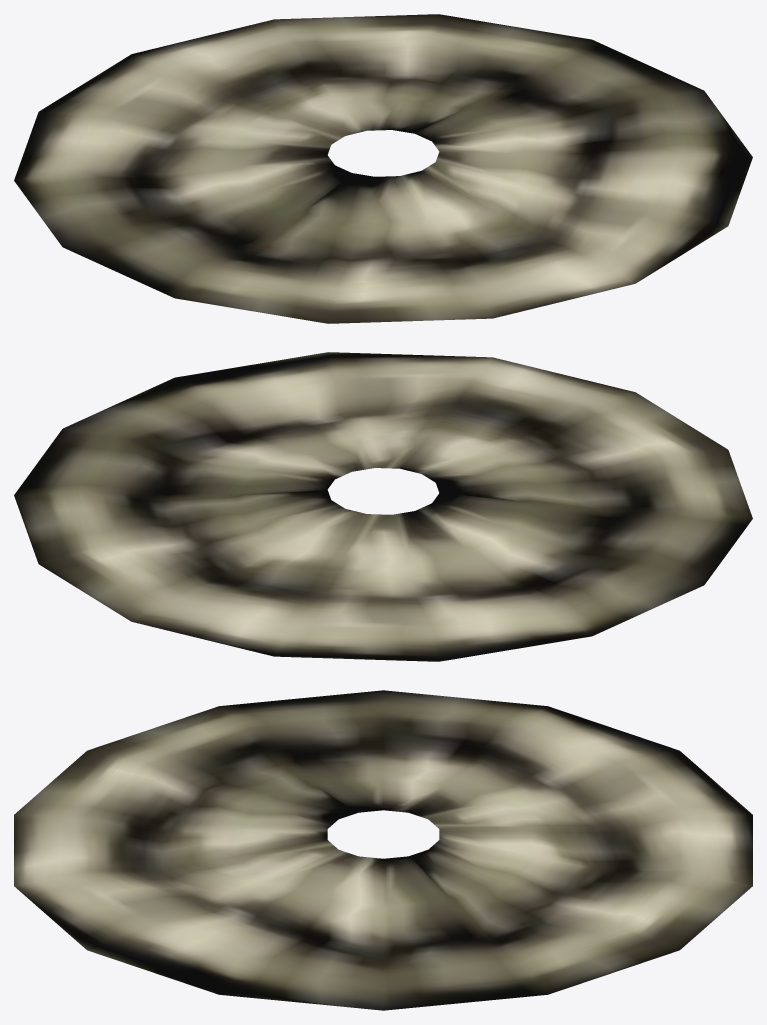
Rendered from pir_m_efx_chr_groundAura.fbx.
The picture shows the model from 3 angles, top to bottom: view 1: azimuth 30°, elevation 25°; view 2: azimuth 150°, elevation 25°; view 3: azimuth 270°, elevation 25°; orthographic projection. The views are drawn at different scales.
Parts seen in each view (by area): view 1: pCone1; view 2: pCone1; view 3: pCone1.
Part boxes in pixels (box(x1,y1,x2,y2)): pCone1: box(14, 14, 752, 323); pCone1: box(14, 352, 752, 661); pCone1: box(14, 690, 752, 1010).
Bounding box in the file's own units: 2000 × 46.44 × 1950.
1 material, 1 textured.
